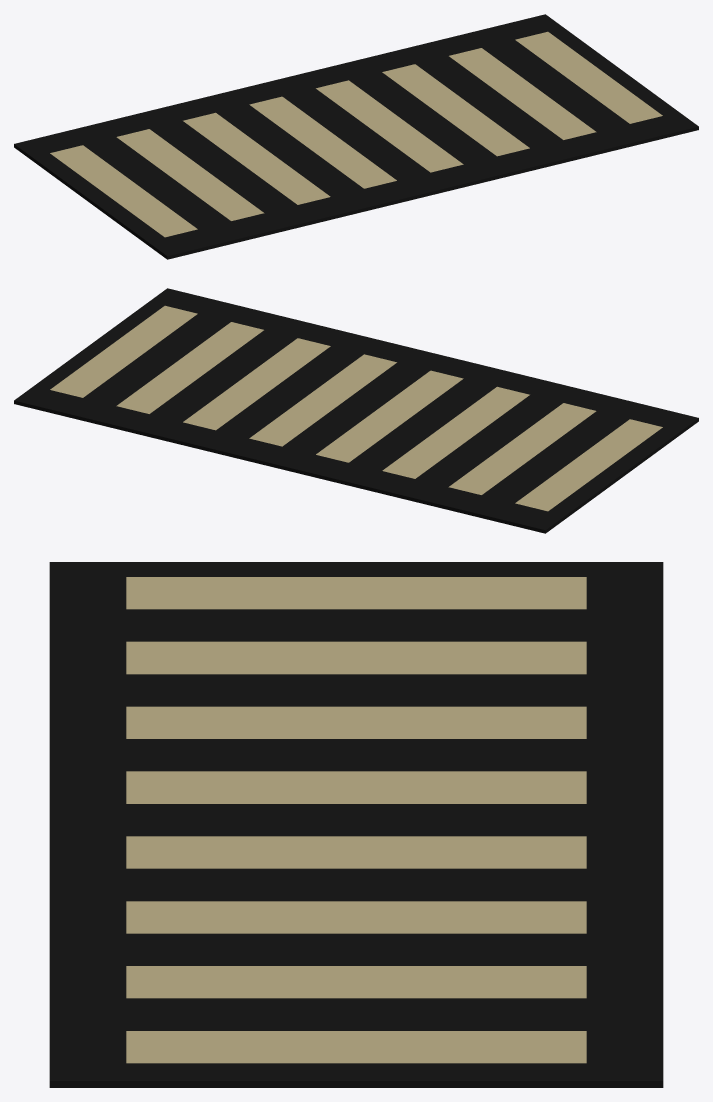
The model's file is tile_road_zebra.fbx.
3 views of the same model, one above another, from view 1: azimuth 30°, elevation 25°; view 2: azimuth 150°, elevation 25°; view 3: azimuth 270°, elevation 25° (orthographic). The views are drawn at different scales.
Visible parts, largest first — view 1: tile_road_zebra; view 2: tile_road_zebra; view 3: tile_road_zebra.
Boxes of the visible parts, x1,y1,x2,y2 form: tile_road_zebra: (14,14,698,259); tile_road_zebra: (14,288,698,533); tile_road_zebra: (49,562,663,1087).
Bounding box in the file's own units: 8 × 0.06 × 4.
